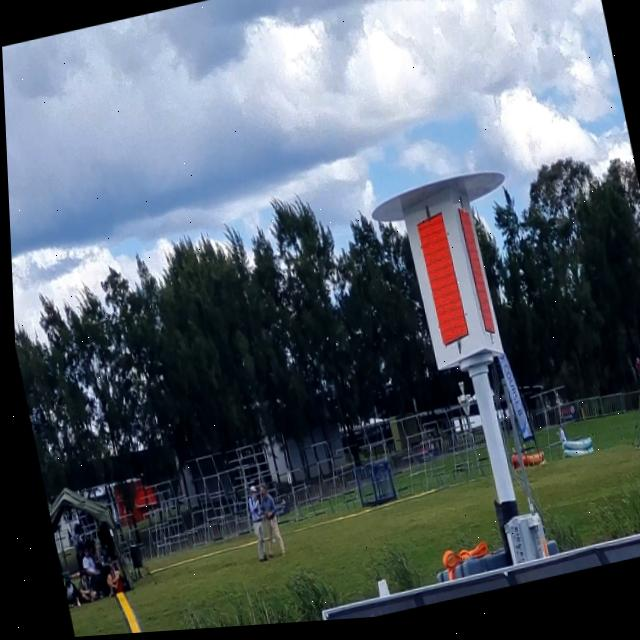led: (405, 207, 475, 360), (451, 196, 495, 348)
